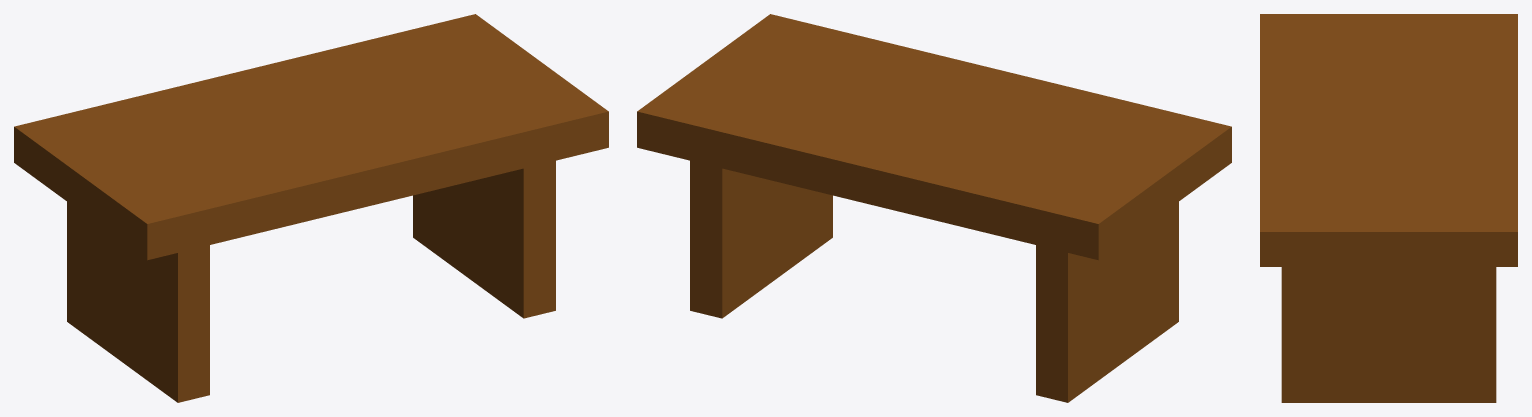
The model's file is Crafting.fbx.
The picture shows the model from 3 angles, left to right: view 1: azimuth 30°, elevation 25°; view 2: azimuth 150°, elevation 25°; view 3: azimuth 270°, elevation 25°; orthographic projection. The views are drawn at different scales.
Visible parts, largest first — view 1: Cube; view 2: Cube; view 3: Cube.
Part boxes in pixels (bbox=[...]): Cube: bbox=[14, 14, 608, 402]; Cube: bbox=[637, 14, 1231, 402]; Cube: bbox=[1260, 14, 1517, 402].
Size of the model in its own units: 400 by 163 by 200.
